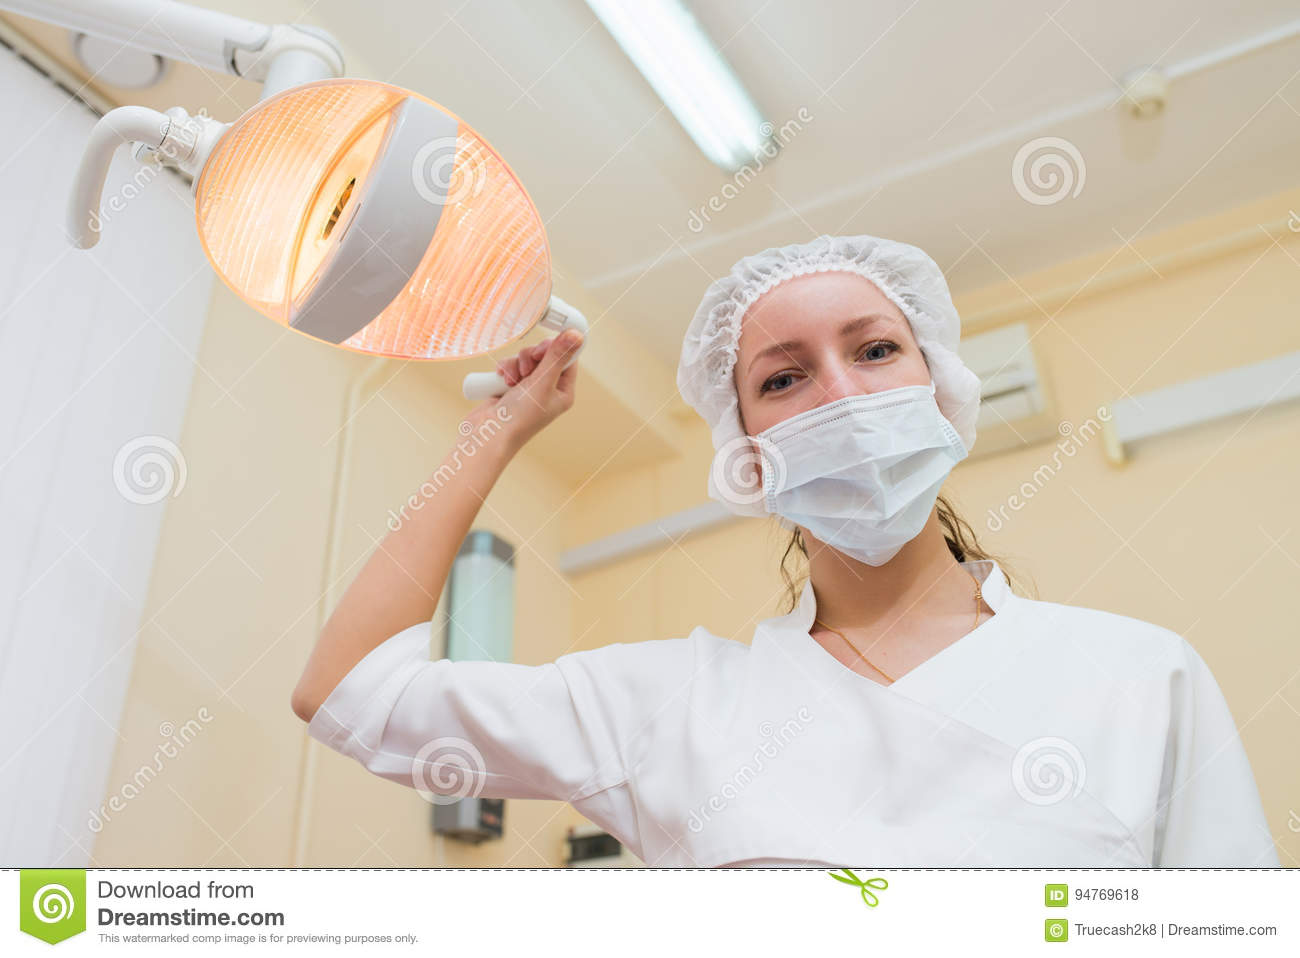mask: (717, 385, 961, 558)
